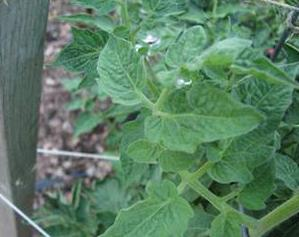Tomato leaf mosaic virus: (142, 81, 270, 155), (62, 177, 202, 237), (96, 35, 152, 113), (163, 24, 215, 69), (206, 154, 256, 188), (207, 205, 250, 237), (129, 141, 165, 164)
